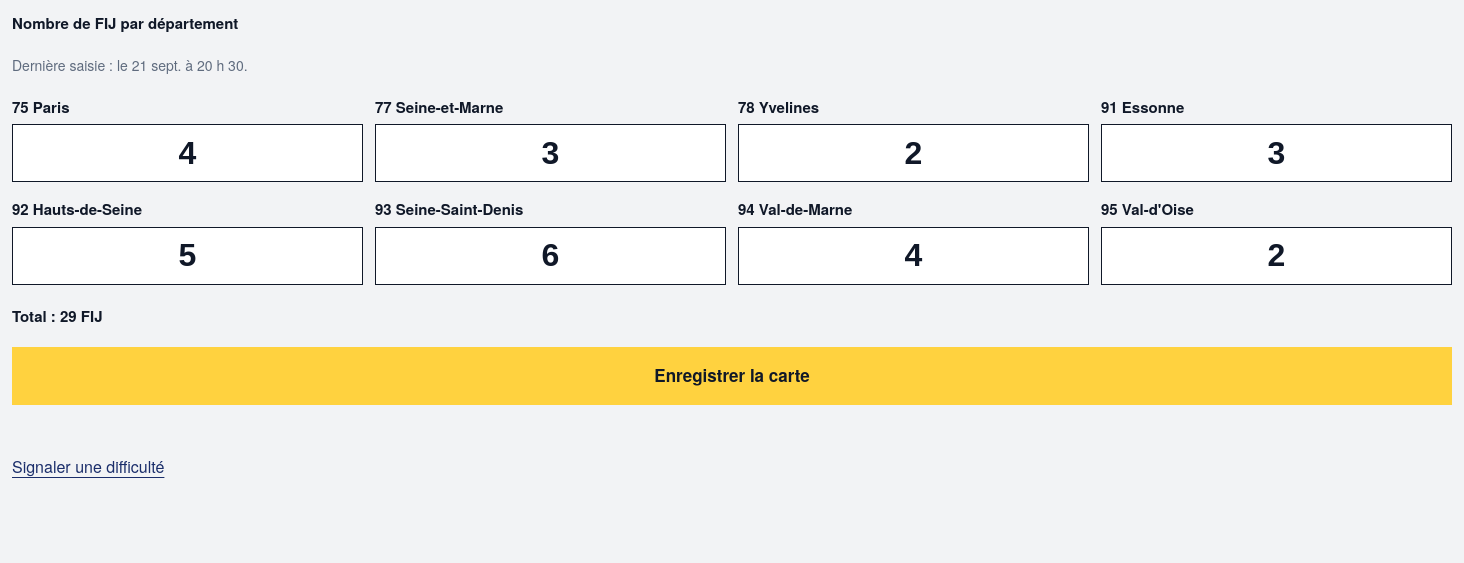
Scenario: FormulaireCarteFij › un refus de la base s’affiche sous le bouton, les valeurs restent
Click the button named "Enregistrer la carte". click: click(732, 376)
box: [12,347,1452,405]
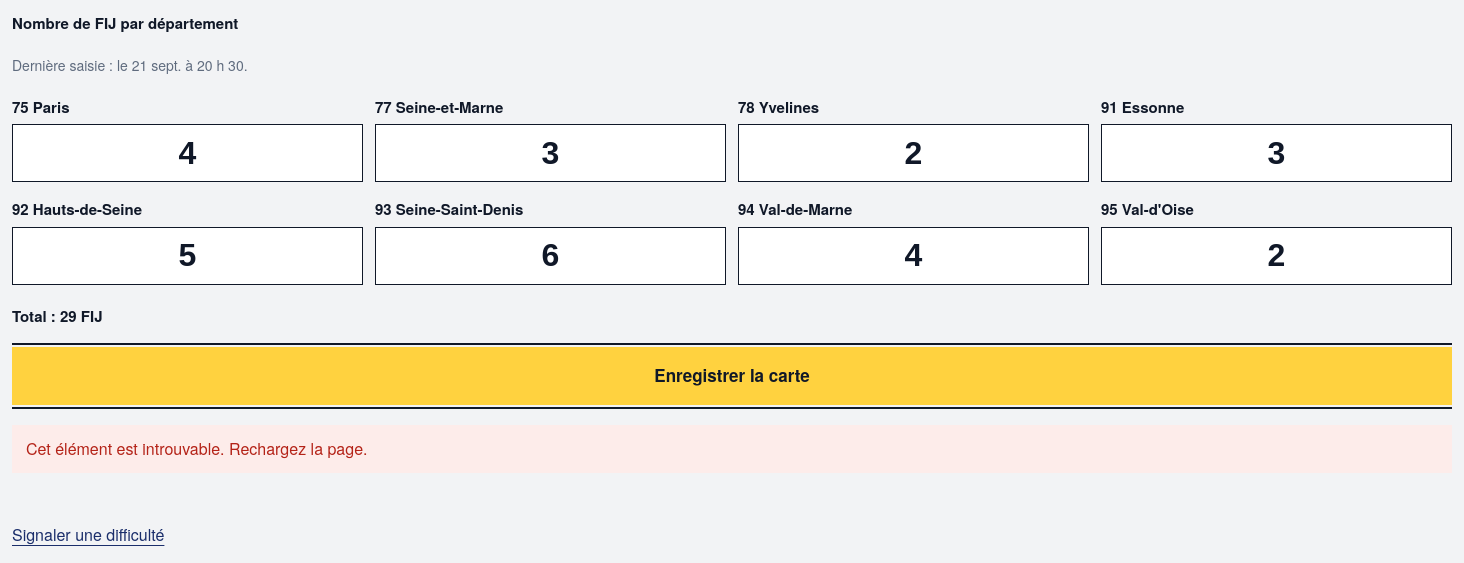
Expected: the field labelled "75 Paris" holds "4", [12,124,363,182]
Now the message reads "Cet élément est introuvable. Rechargez la page.", box [26,437,368,460]
